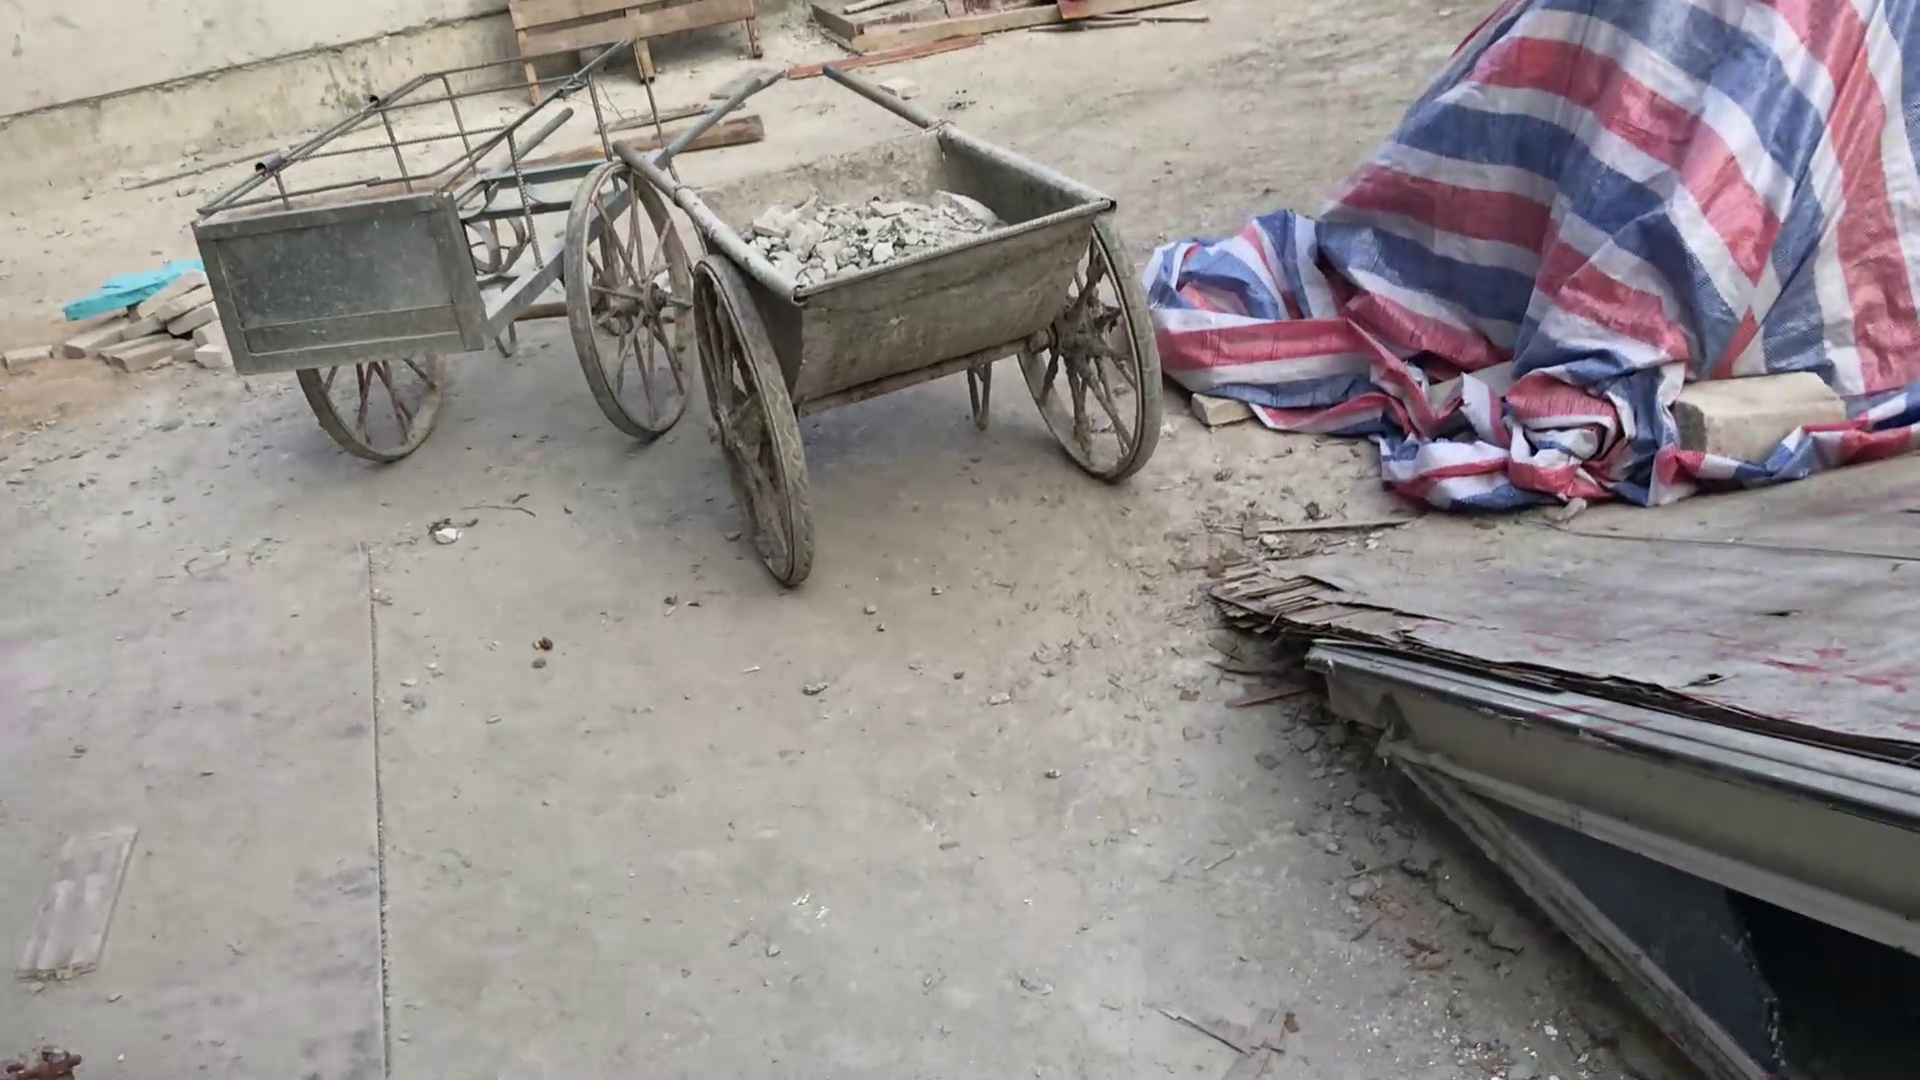handcart: (603, 73, 1211, 578), (210, 1, 765, 483)
